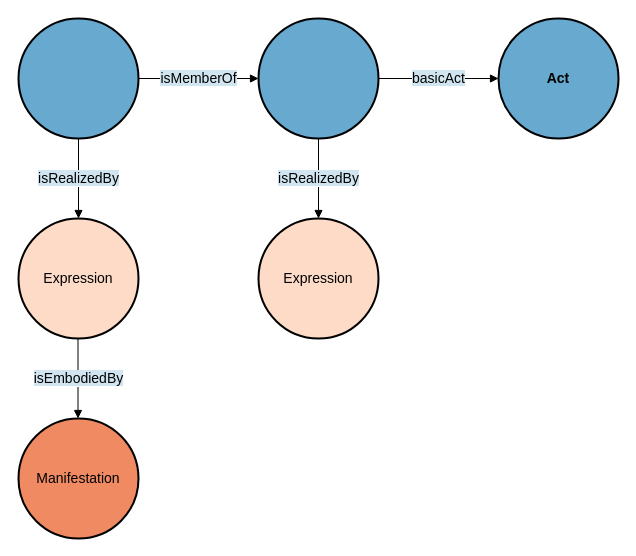
Image size: 636x556. Some labels were removed from this diagram. Each missing label, with the centre of its shape:
"Consolidation" belongs at [78,78].
"Consolidation Abstract" belongs at [318,78].
